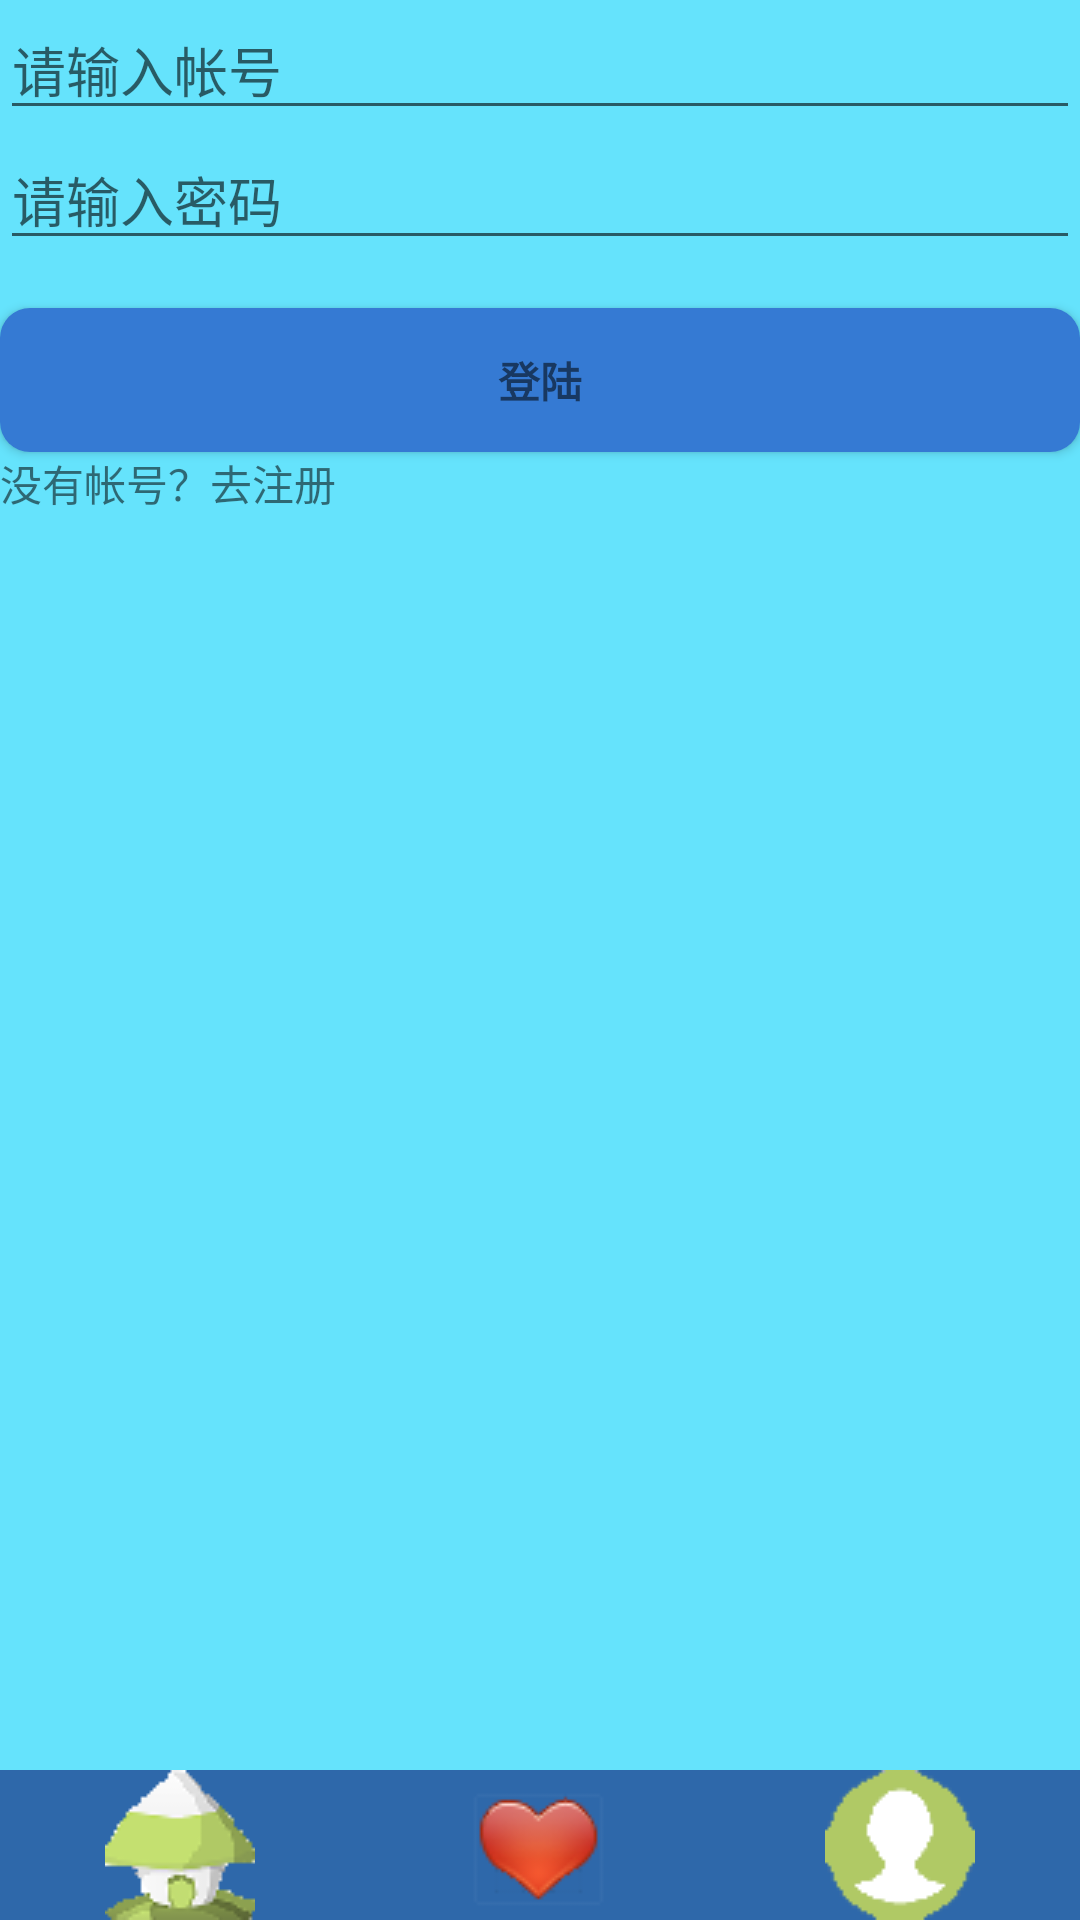

Named icons in this screenshot (1080×1920) and their centers, [x,y]:
heart: [538,1848]
person: [900,1845]
